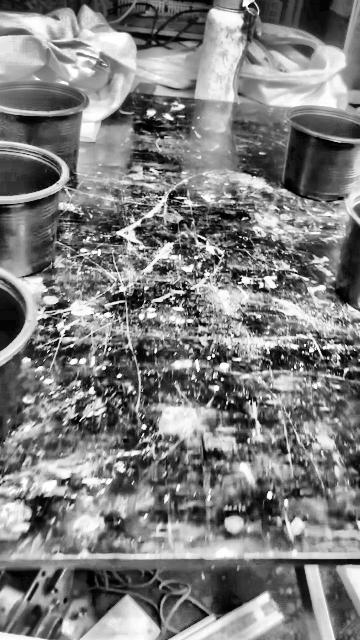pot: (0, 81, 89, 200), (0, 142, 69, 277), (283, 107, 359, 201), (0, 269, 36, 441), (336, 192, 359, 310)
